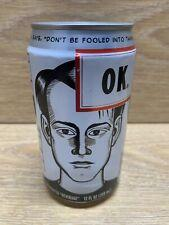metal: (27, 22, 137, 206)
